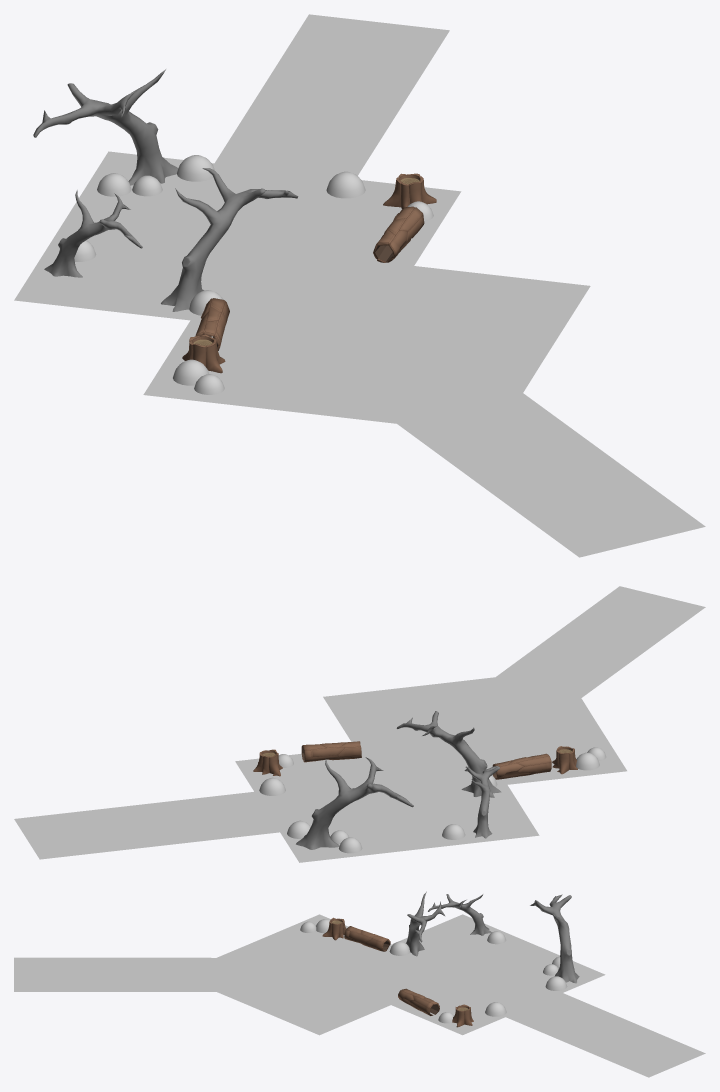
The model's file is map_test.fbx.
3 views of the same model, one above another, from view 1: azimuth 30°, elevation 25°; view 2: azimuth 150°, elevation 25°; view 3: azimuth 270°, elevation 25° (orthographic). The views are drawn at different scales.
Visible parts, largest first — view 1: Plane005, wood_02, wood_01, wood_003, log_002, stump_02, log_01, stump_01, Sphere008; view 2: Plane005, wood_02, wood_01, log_002, log_01, wood_003, stump_02, stump_01; view 3: Plane005, wood_02, wood_01, wood_003, log_01, log_002, stump_02, stump_01.
Part boxes in pixels (box(x1,y1,x2,y2)): Plane005: box(14, 14, 705, 557); wood_02: box(33, 69, 178, 185); wood_01: box(161, 168, 298, 311); wood_003: box(44, 190, 142, 277); log_002: box(373, 206, 424, 262); stump_02: box(383, 173, 436, 208); log_01: box(195, 298, 229, 350); stump_01: box(182, 334, 225, 373); Sphere008: box(326, 171, 365, 198); Plane005: box(14, 586, 705, 862); wood_02: box(296, 757, 413, 849); wood_01: box(396, 711, 501, 797); log_002: box(301, 741, 361, 762); log_01: box(492, 753, 551, 779); wood_003: box(464, 765, 499, 838); stump_02: box(253, 749, 282, 776); stump_01: box(552, 746, 577, 774); Plane005: box(14, 914, 705, 1077); wood_02: box(530, 894, 579, 983); wood_01: box(406, 891, 445, 956); wood_003: box(428, 894, 491, 935); log_01: box(344, 926, 390, 951); log_002: box(398, 988, 439, 1015); stump_02: box(452, 1004, 473, 1027); stump_01: box(322, 917, 346, 940).
Bounding box in the file's own units: 887 × 168 × 1588.
